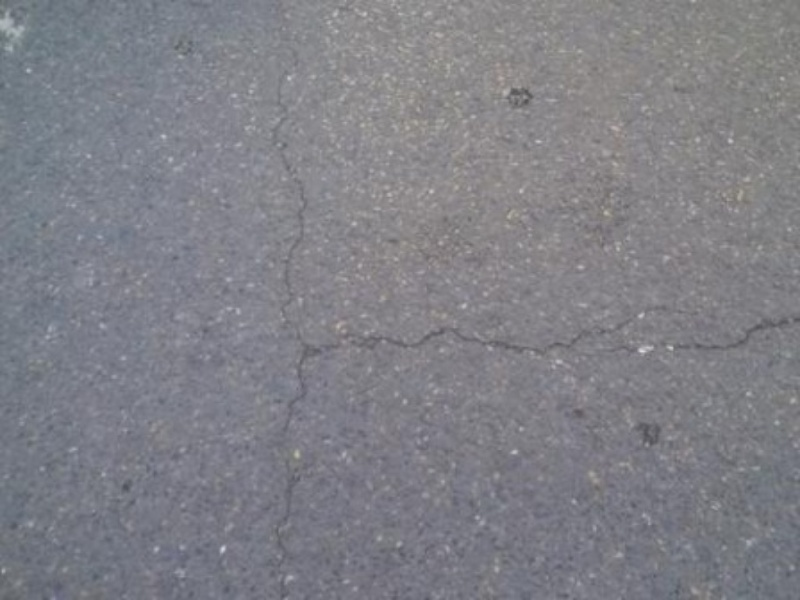crack: (293, 288, 788, 401), (247, 29, 346, 587)
